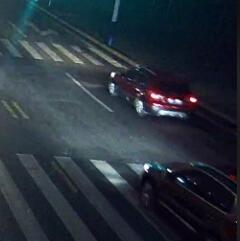car: (139, 160, 238, 227), (106, 58, 201, 120)
